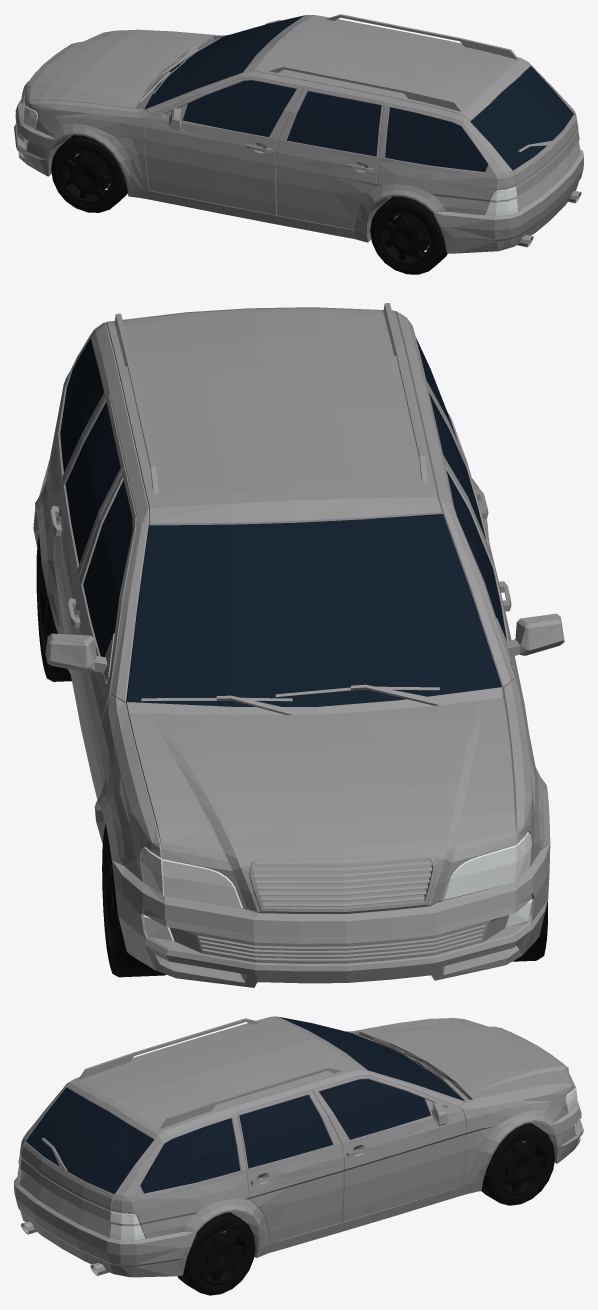
File: wagon.obj
3 renders of one model, top to bottom at view 1: azimuth 30°, elevation 25°; view 2: azimuth 150°, elevation 25°; view 3: azimuth 270°, elevation 25°, orthographic. The views are drawn at different scales.
Parts seen in each view (by area): view 1: wagon-body, wheel_a003; view 2: wagon-body, wheel_a003; view 3: wagon-body, wheel_a003.
Part boxes in pixels (x1,y1,x2,y2): wagon-body: (14,14,583,253); wheel_a003: (51,135,447,274); wagon-body: (33,303,564,987); wheel_a003: (36,534,547,977); wagon-body: (14,1016,583,1277); wheel_a003: (177,1123,554,1295).
Size of the model in its own units: 3.45 by 1.38 by 4.1.
